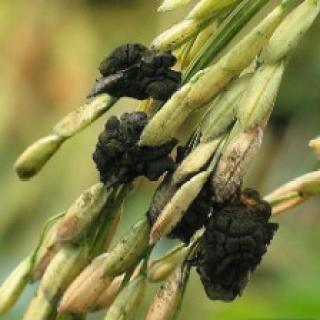Gosong-Palsu: (190, 189, 277, 300), (93, 111, 176, 187), (94, 43, 180, 104), (170, 179, 210, 240), (149, 167, 171, 224)
